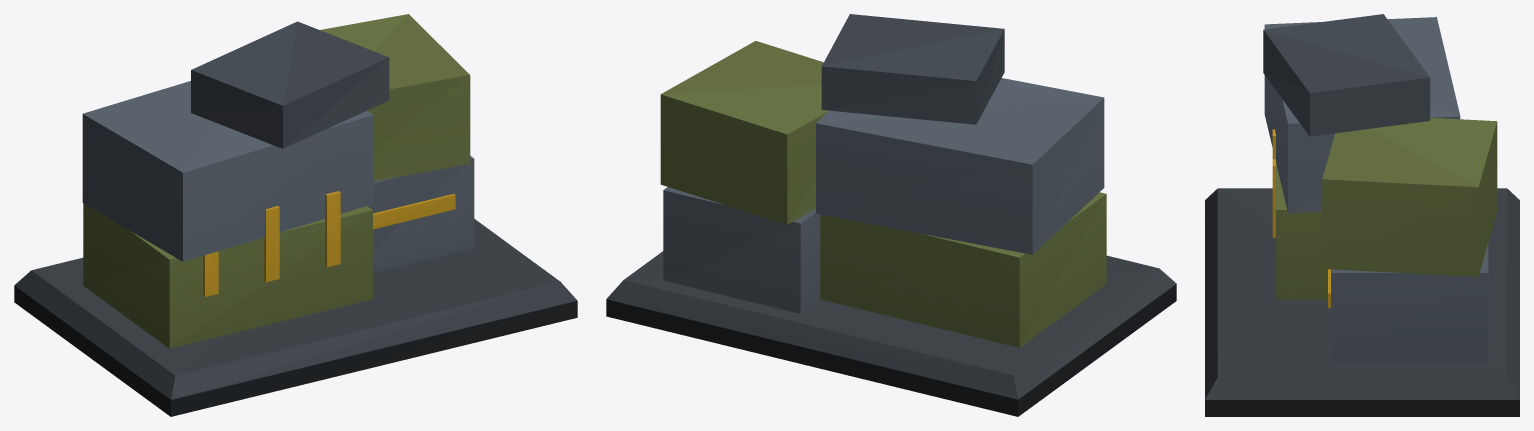
The model's file is outpost-crate-stack.glb.
The picture shows the model from 3 angles, left to right: view 1: azimuth 30°, elevation 25°; view 2: azimuth 150°, elevation 25°; view 3: azimuth 270°, elevation 25°; orthographic projection.
Size of the model in its own units: 3 by 1.8 by 2.
